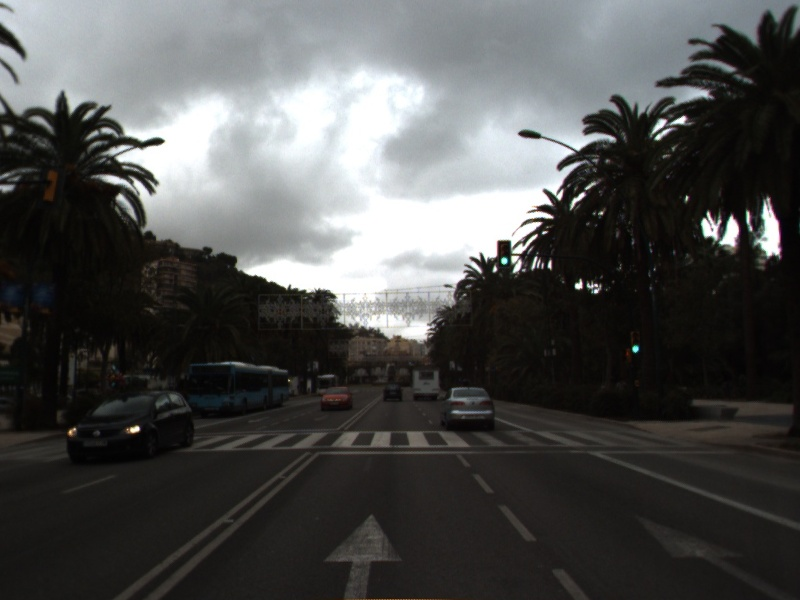STRAIGHT: (629, 509, 800, 600), (318, 509, 407, 600)
